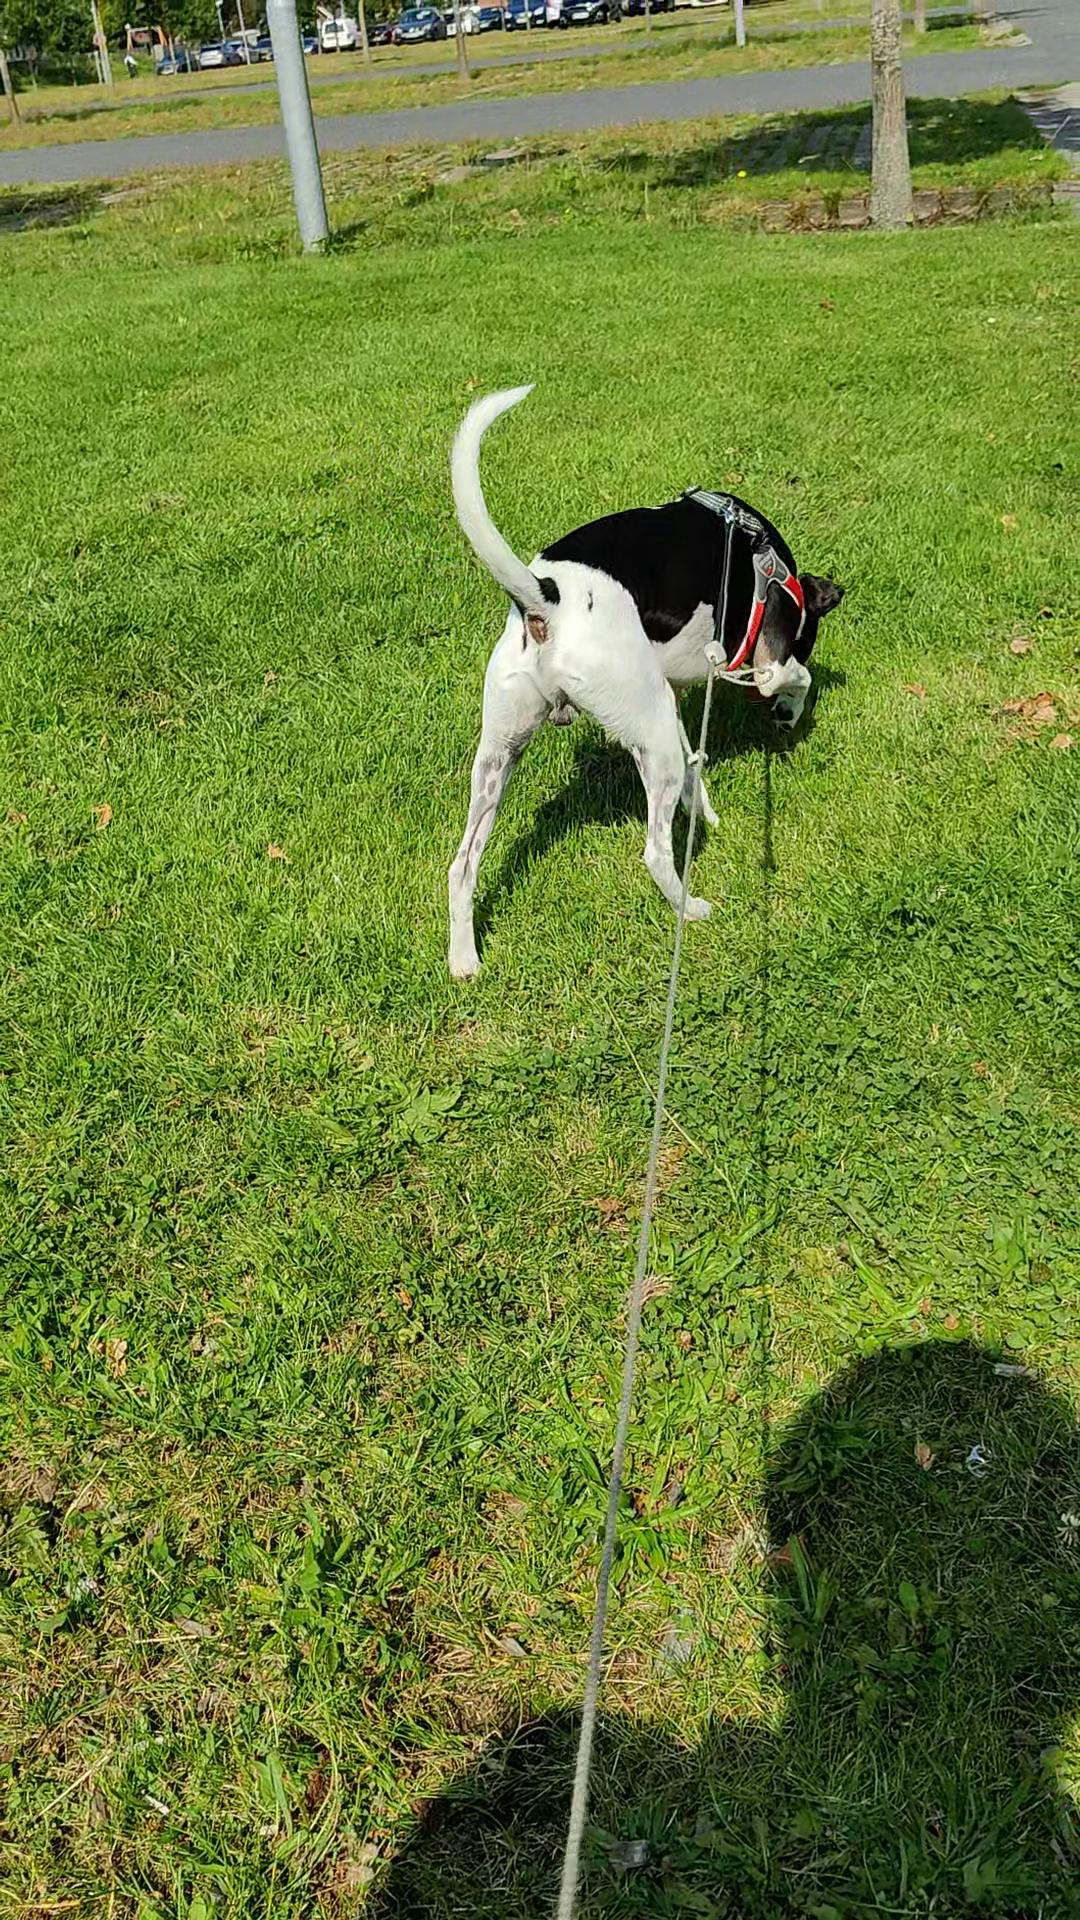Dog: (442, 376, 847, 986)
